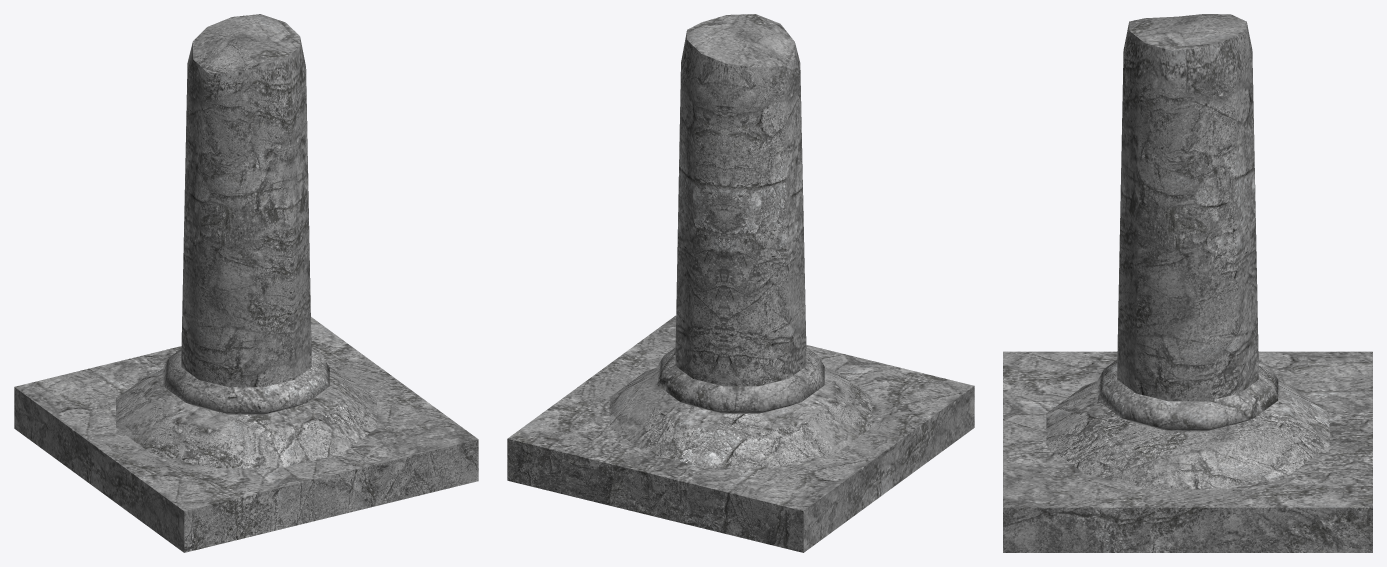
Rendered from materials_3_rubble_20.fbx.
3 views of the same model, side by side, from view 1: azimuth 30°, elevation 25°; view 2: azimuth 150°, elevation 25°; view 3: azimuth 270°, elevation 25° (orthographic). The views are drawn at different scales.
Visible parts, largest first — view 1: materials_3_rubble_20; view 2: materials_3_rubble_20; view 3: materials_3_rubble_20.
Part boxes in pixels (bbox=[...]): materials_3_rubble_20: bbox=[14, 14, 478, 552]; materials_3_rubble_20: bbox=[507, 14, 974, 552]; materials_3_rubble_20: bbox=[1003, 14, 1372, 552].
Bounding box in the file's own units: 95.55 × 130 × 95.55.
